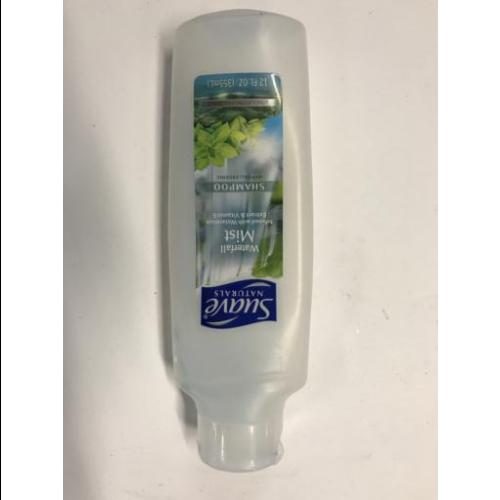plastic: (170, 9, 313, 473)
